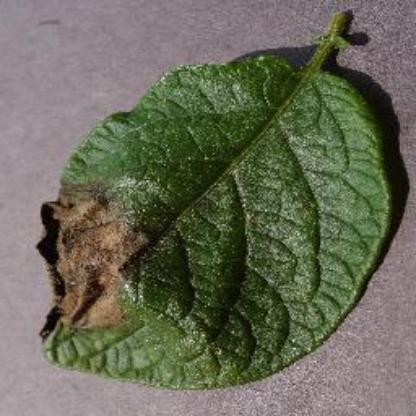Late-Blight: (15, 15, 398, 398)
